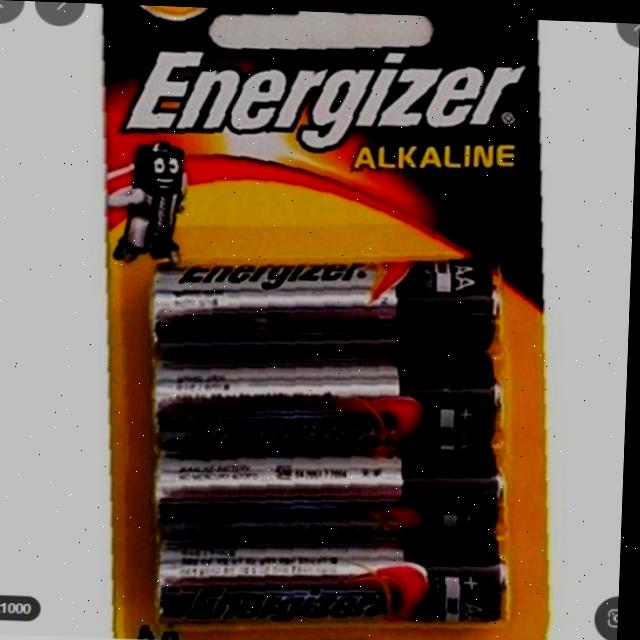battery: (138, 242, 513, 358), (139, 445, 511, 551), (149, 354, 506, 456), (148, 544, 511, 628)
